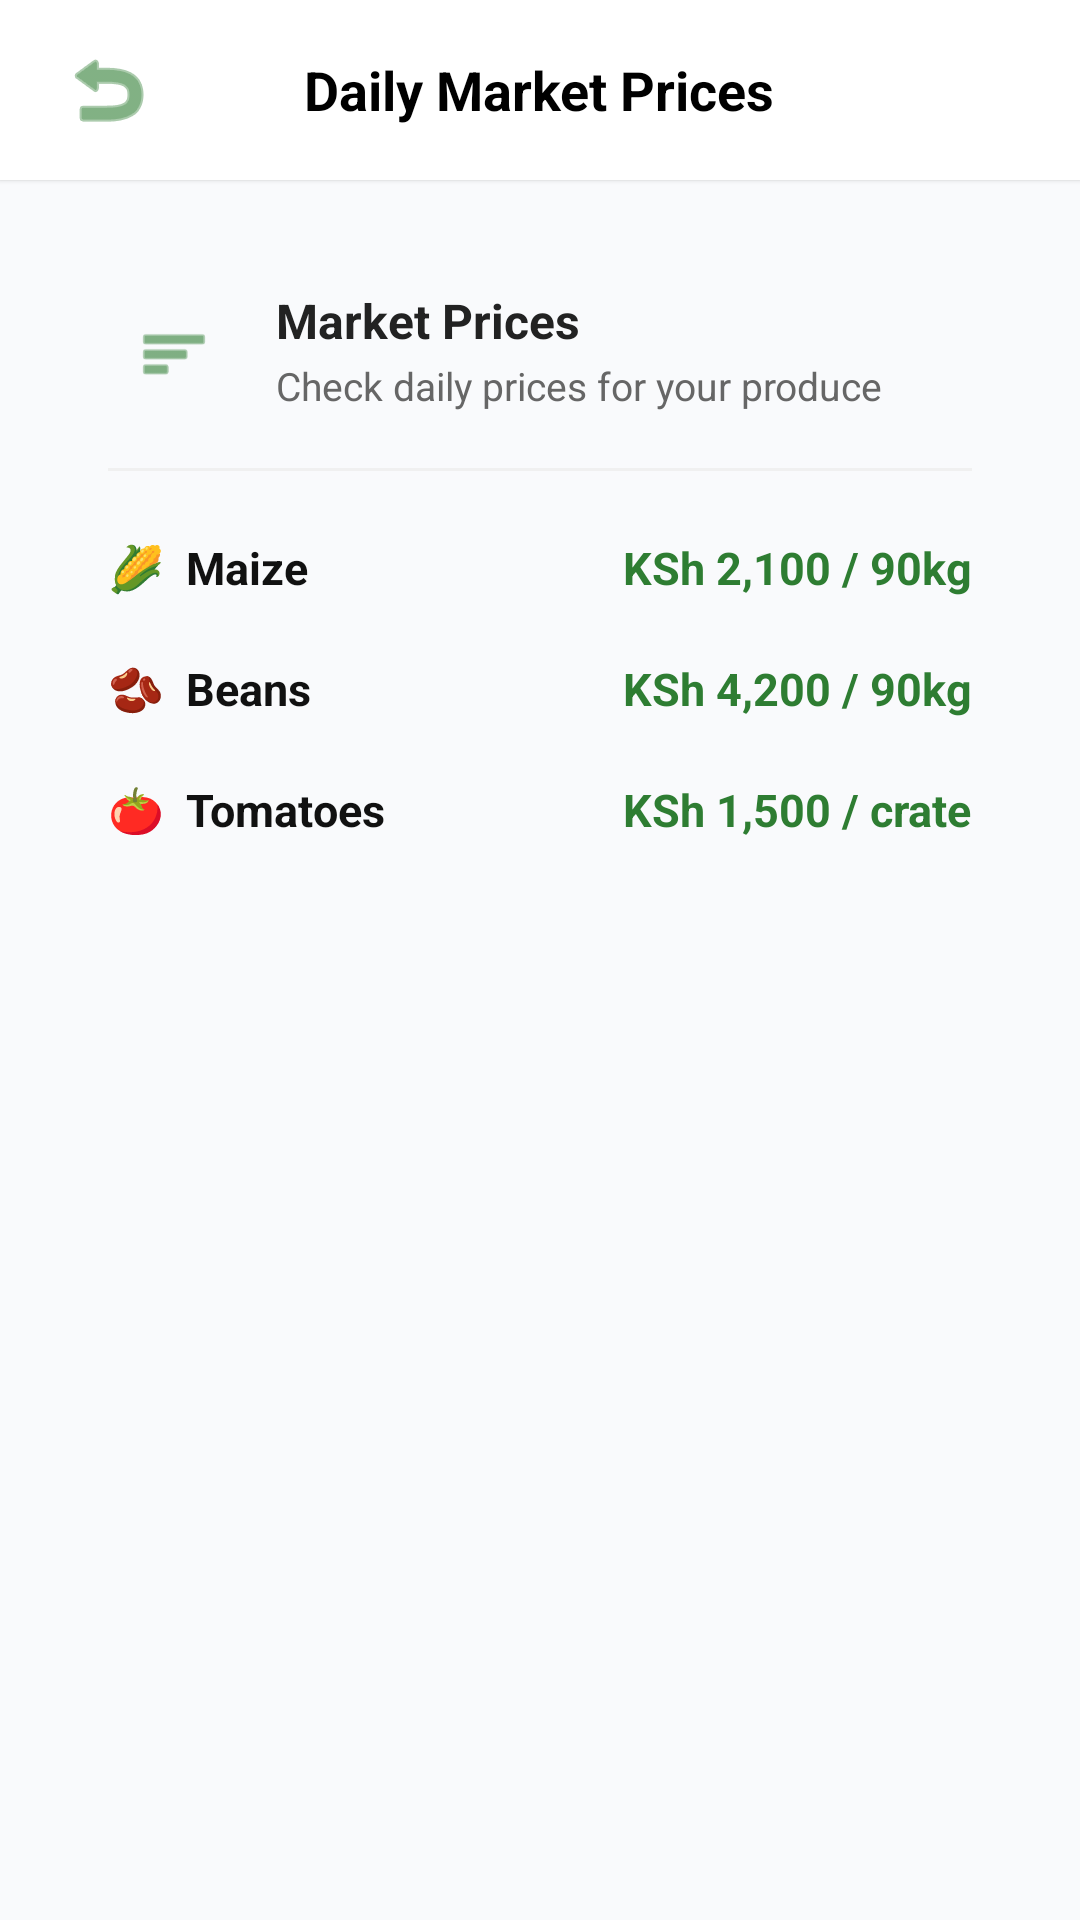

Icon bounding boxes for this 1080*1920 phone screenshot, format (x1, y1, x2, y2):
revert: (75, 59, 144, 122)
sort by size: (143, 334, 205, 375)
